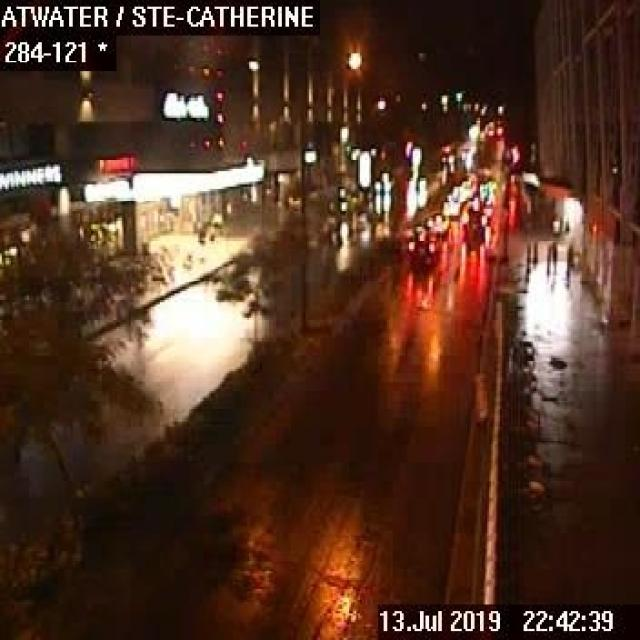construction: (473, 371, 491, 422)
vehicle: (405, 223, 439, 263), (459, 199, 485, 230), (426, 210, 449, 234)
